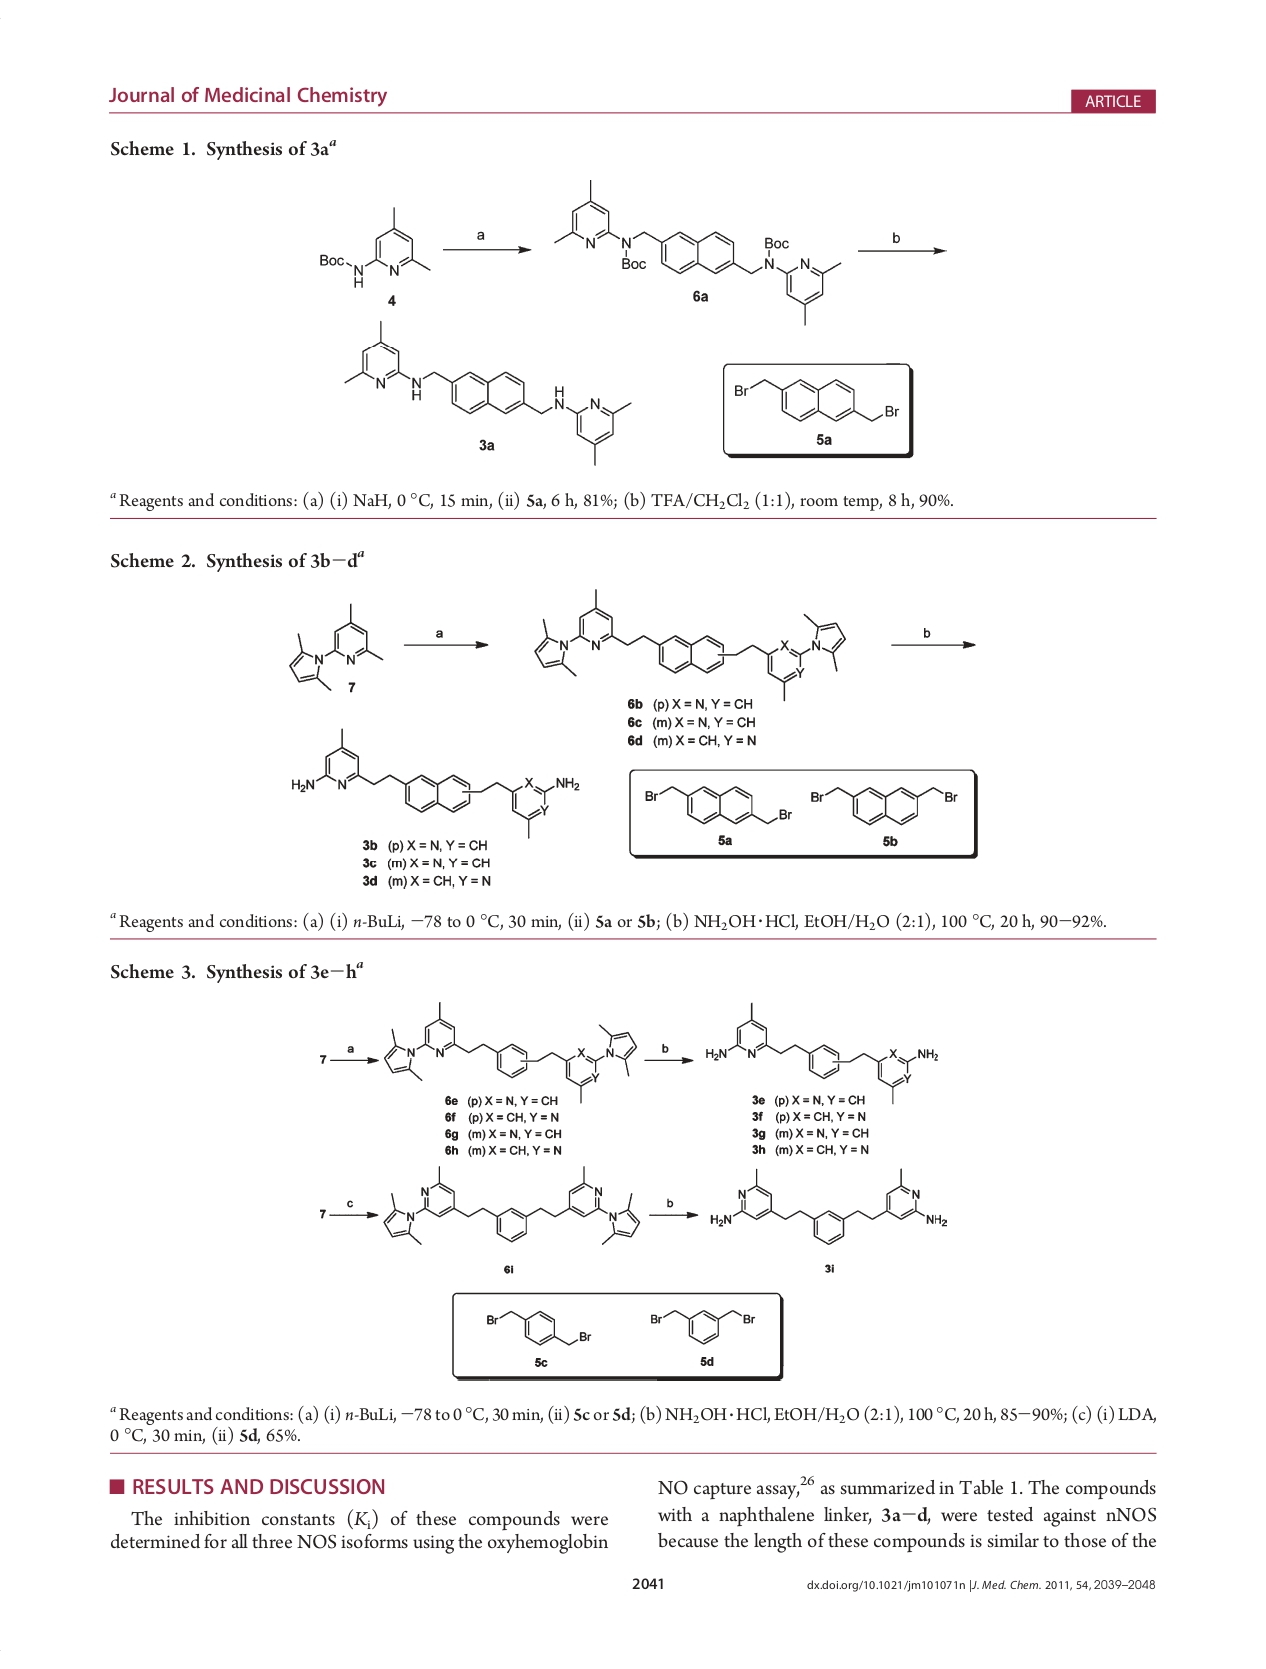exist_molecular: (551, 173, 846, 334), (340, 317, 636, 467), (531, 582, 850, 705), (287, 723, 581, 840), (382, 1000, 641, 1105), (701, 999, 942, 1108), (382, 1164, 644, 1247), (707, 1164, 953, 1246), (314, 203, 431, 290), (285, 598, 387, 696), (730, 375, 899, 430), (640, 781, 797, 830), (806, 785, 960, 829), (481, 1306, 593, 1352), (645, 1306, 761, 1348)
